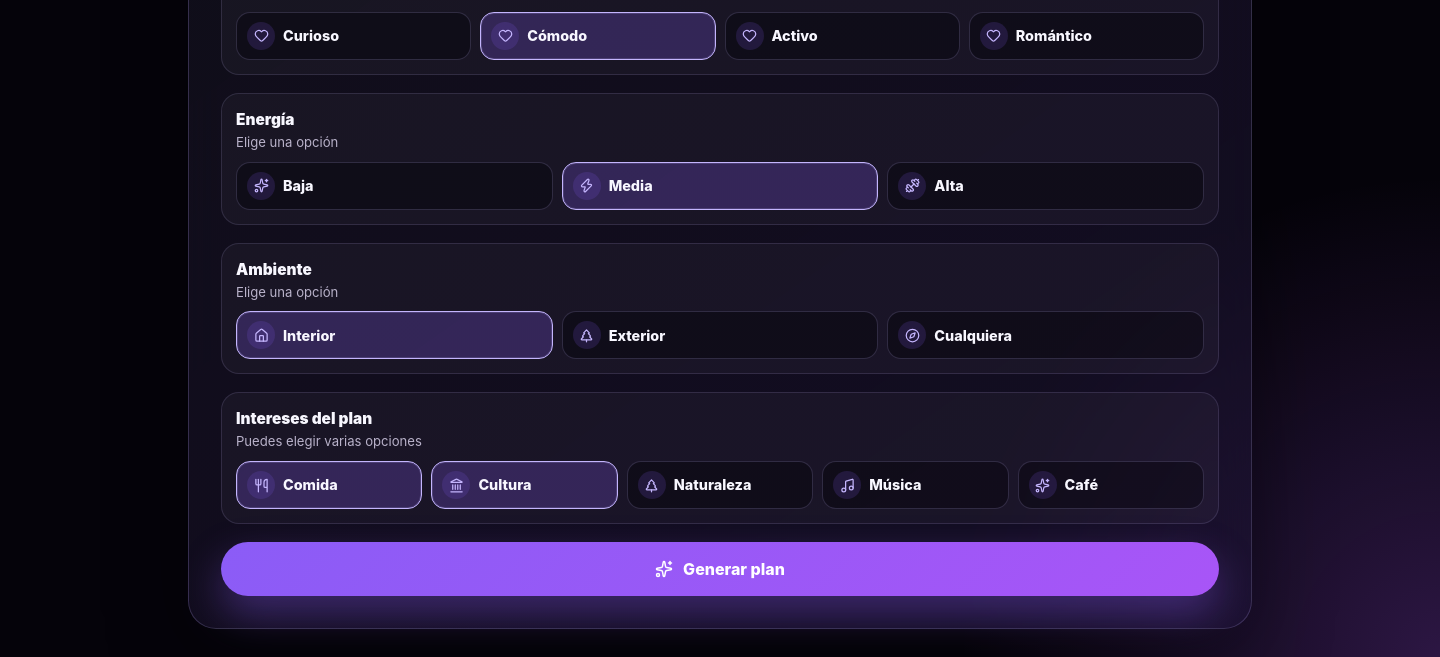
Orbit web foundation › generates and renders plan results
(page scrolled)
Click the button "Generar plan".
click(720, 569)  # box [221,542,1219,596]
(page scrolled)
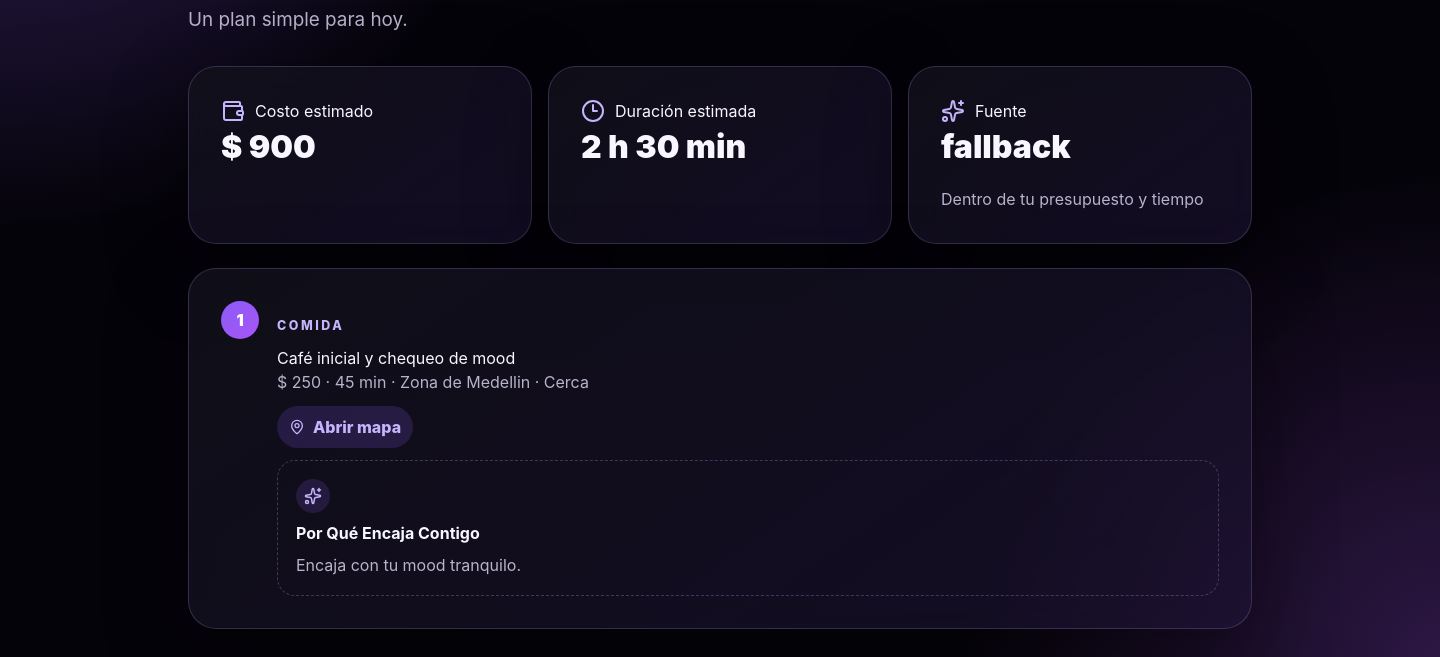
Expected: the text "Encaja con tu mood tranquilo." is shown, [296,555,521,575]
